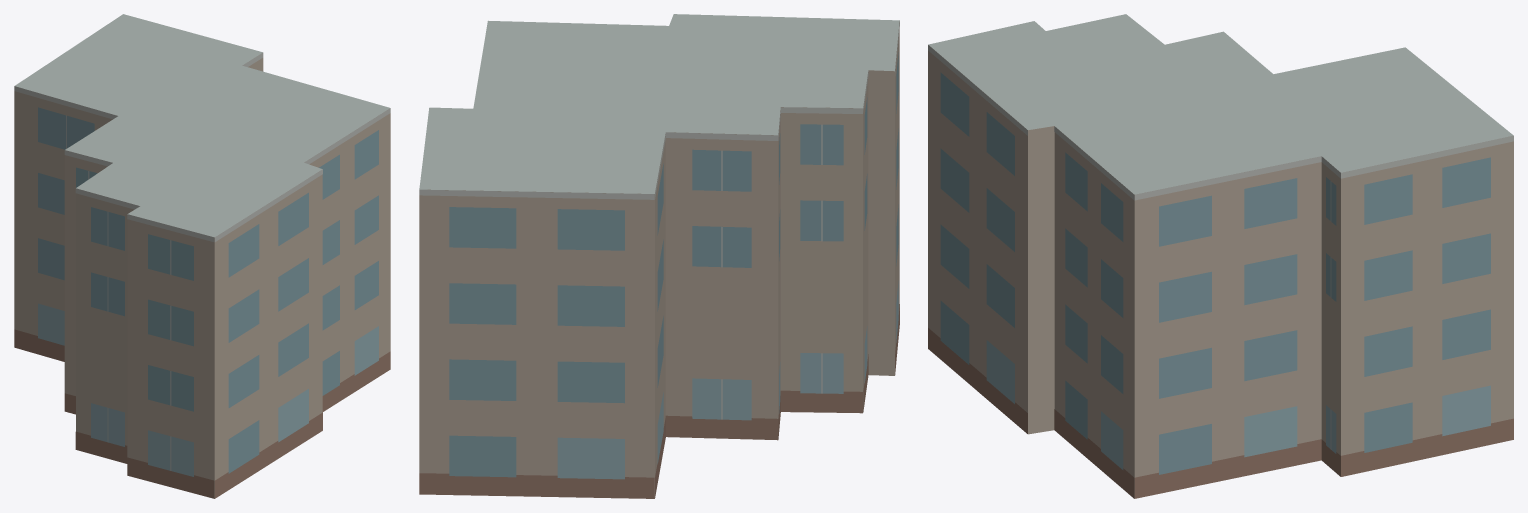
Rendered from survey-upis-32923269.glb.
3 renders of one model, left to right at view 1: azimuth 30°, elevation 25°; view 2: azimuth 150°, elevation 25°; view 3: azimuth 270°, elevation 25°, orthographic. The views are drawn at different scales.
Visible parts, largest first — view 1: survey-upis-32923269.tmp; view 2: survey-upis-32923269.tmp; view 3: survey-upis-32923269.tmp.
Boxes of the visible parts, box(x1,y1,x2,y2) form: survey-upis-32923269.tmp: box(14, 14, 390, 498); survey-upis-32923269.tmp: box(419, 14, 899, 498); survey-upis-32923269.tmp: box(928, 14, 1513, 498).
Bounding box in the file's own units: 16.19 × 12.7 × 22.17.
